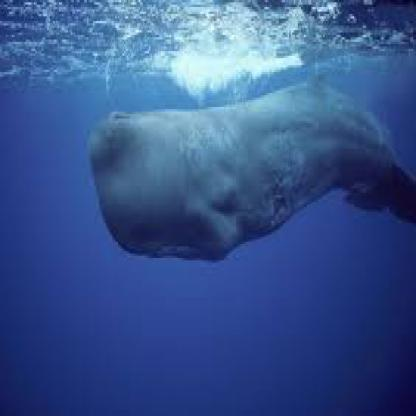sperm_whale: (72, 86, 414, 337)
